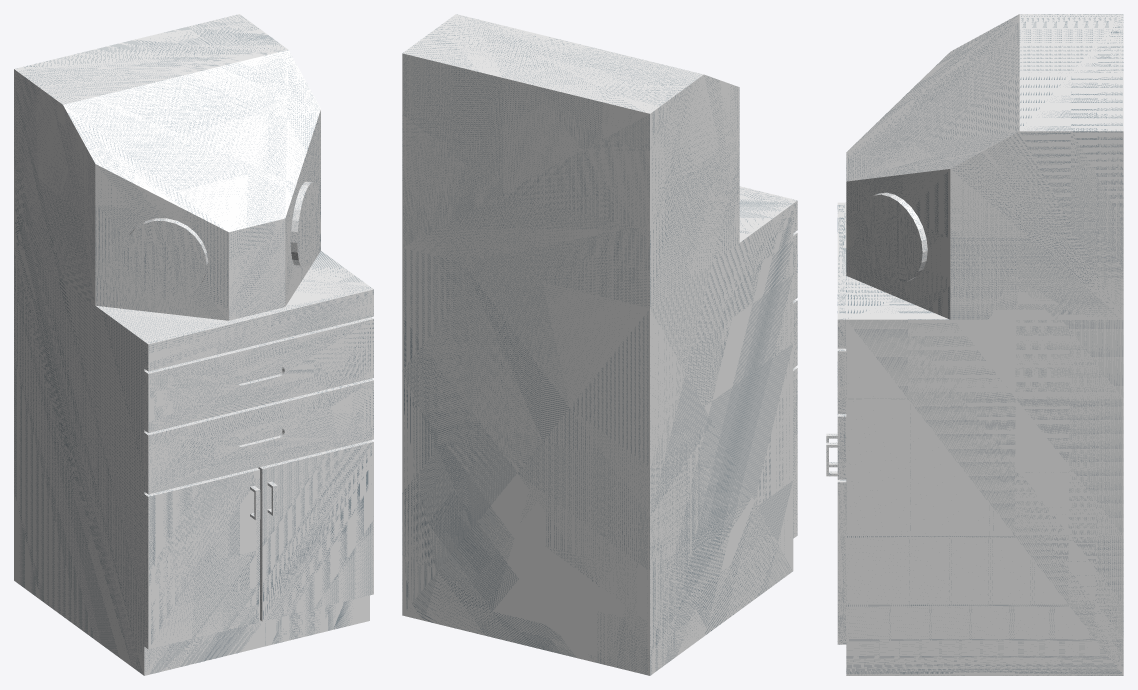
3 views of the same model, side by side, from view 1: azimuth 30°, elevation 25°; view 2: azimuth 150°, elevation 25°; view 3: azimuth 270°, elevation 25° (orthographic). The views are drawn at different scales.
Visible parts, largest first — view 1: FamilyGeomCombination_2988, FamilyGeomCombination_3032 (×5), FamilyGeomCombination_3031, D0942_-_Workstation__Dental_Lab__Microblasting (×2); view 2: FamilyGeomCombination_3031, FamilyGeomCombination_2988, FamilyGeomCombination_3032; view 3: FamilyGeomCombination_3031, FamilyGeomCombination_2988, D0942_-_Workstation__Dental_Lab__Microblasting, FamilyGeomCombination_3032 (×4).
Boxes of the visible parts, x1,y1,x2,y2 form: FamilyGeomCombination_2988: (14, 14, 320, 320); FamilyGeomCombination_3032 (×5): (144, 286, 373, 649); FamilyGeomCombination_3031: (14, 246, 369, 675); D0942_-_Workstation__Dental_Lab__Microblasting (×2): (122, 181, 319, 299); FamilyGeomCombination_3031: (402, 190, 793, 675); FamilyGeomCombination_2988: (402, 14, 739, 308); FamilyGeomCombination_3032: (793, 367, 797, 538); FamilyGeomCombination_3031: (846, 276, 1123, 675); FamilyGeomCombination_2988: (846, 14, 1123, 319); D0942_-_Workstation__Dental_Lab__Microblasting: (857, 192, 927, 282); FamilyGeomCombination_3032 (×4): (837, 202, 846, 644).
Bounding box in the file's own units: 24 × 25.75 × 52.
